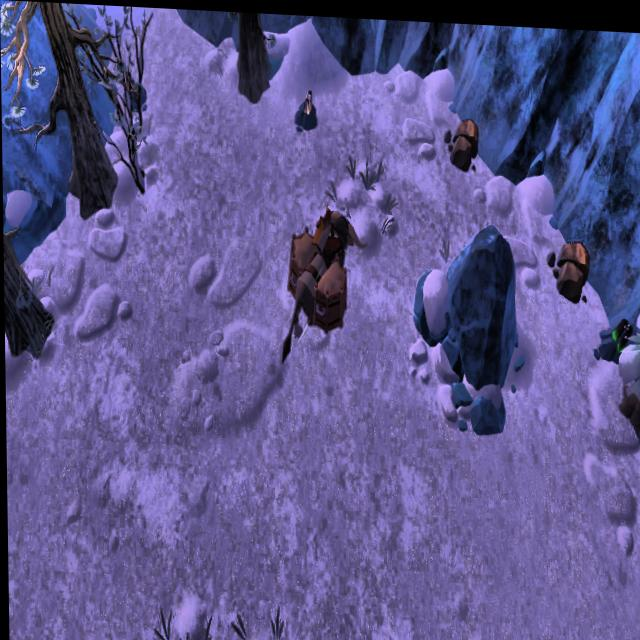ore_t3: (611, 307, 632, 351)
